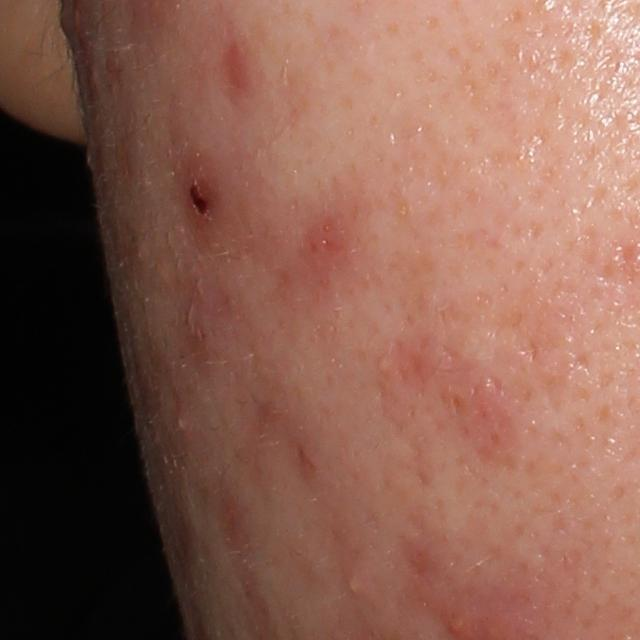papule: (177, 158, 223, 221), (173, 408, 192, 436)
